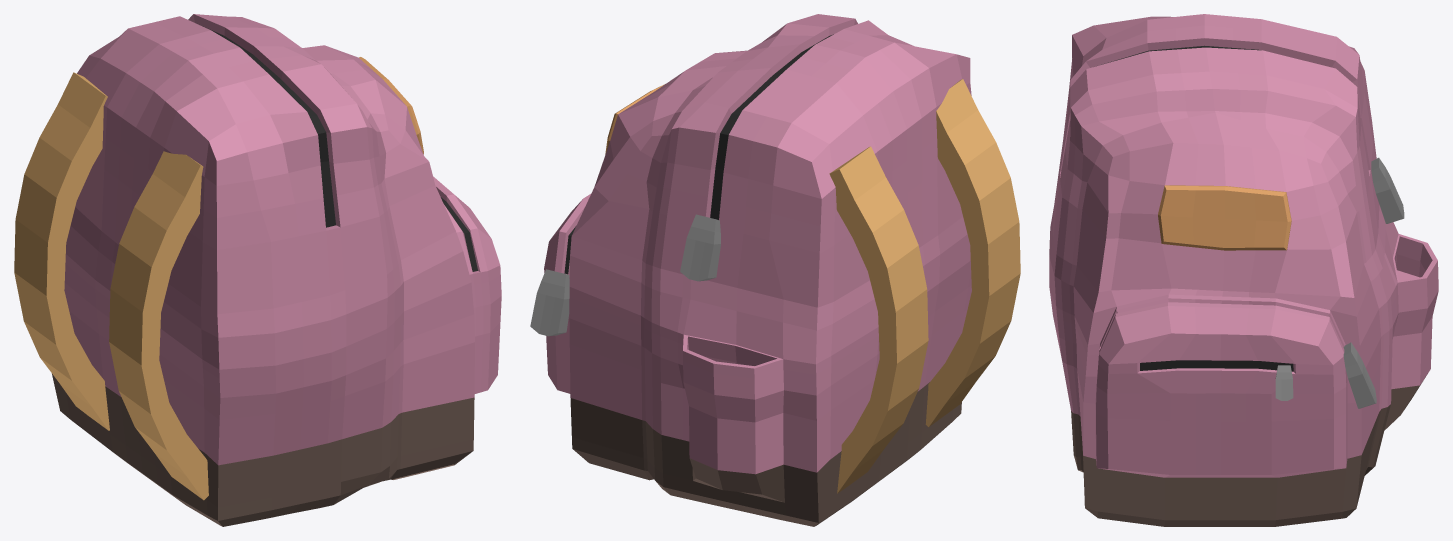
File: Bag.fbx
3 views of the same model, side by side, from view 1: azimuth 30°, elevation 25°; view 2: azimuth 150°, elevation 25°; view 3: azimuth 270°, elevation 25° (orthographic). The views are drawn at different scales.
Visible parts, largest first — view 1: Cube, Stap.001, Stap; view 2: Cube, Stap, Stap.001, Cube.001, Cube.002; view 3: Cube, Cube.001, Cube.002, Cube.003.
Part boxes in pixels (bbox=[...]): Cube: bbox=[52, 14, 501, 526]; Stap.001: bbox=[109, 151, 208, 500]; Stap: bbox=[14, 72, 109, 430]; Cube: bbox=[544, 14, 971, 526]; Stap: bbox=[829, 146, 928, 493]; Stap.001: bbox=[925, 79, 1020, 427]; Cube.001: bbox=[680, 214, 720, 281]; Cube.002: bbox=[530, 269, 569, 336]; Cube: bbox=[1049, 14, 1438, 526]; Cube.001: bbox=[1371, 157, 1404, 223]; Cube.002: bbox=[1343, 342, 1376, 408]; Cube.003: bbox=[1275, 365, 1293, 400].
Size of the model in its own units: 324 by 346 by 291.
